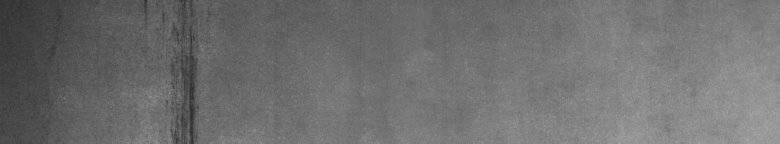ka: (124, 4, 211, 136)
